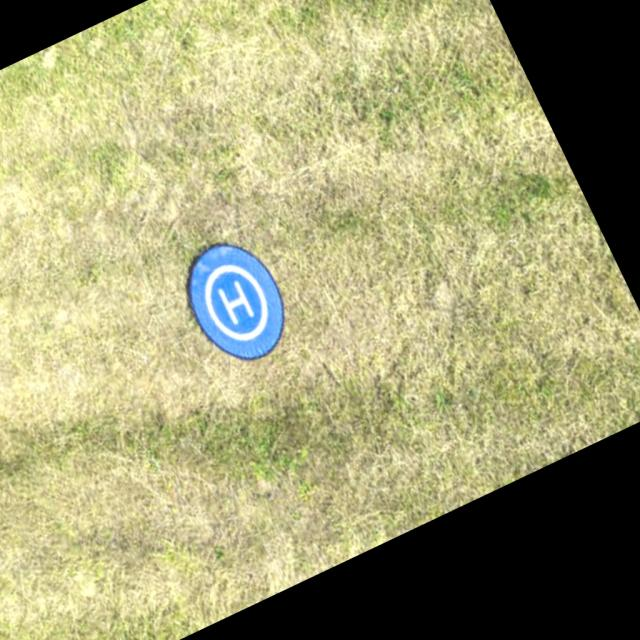helipad: (200, 261, 270, 341)
